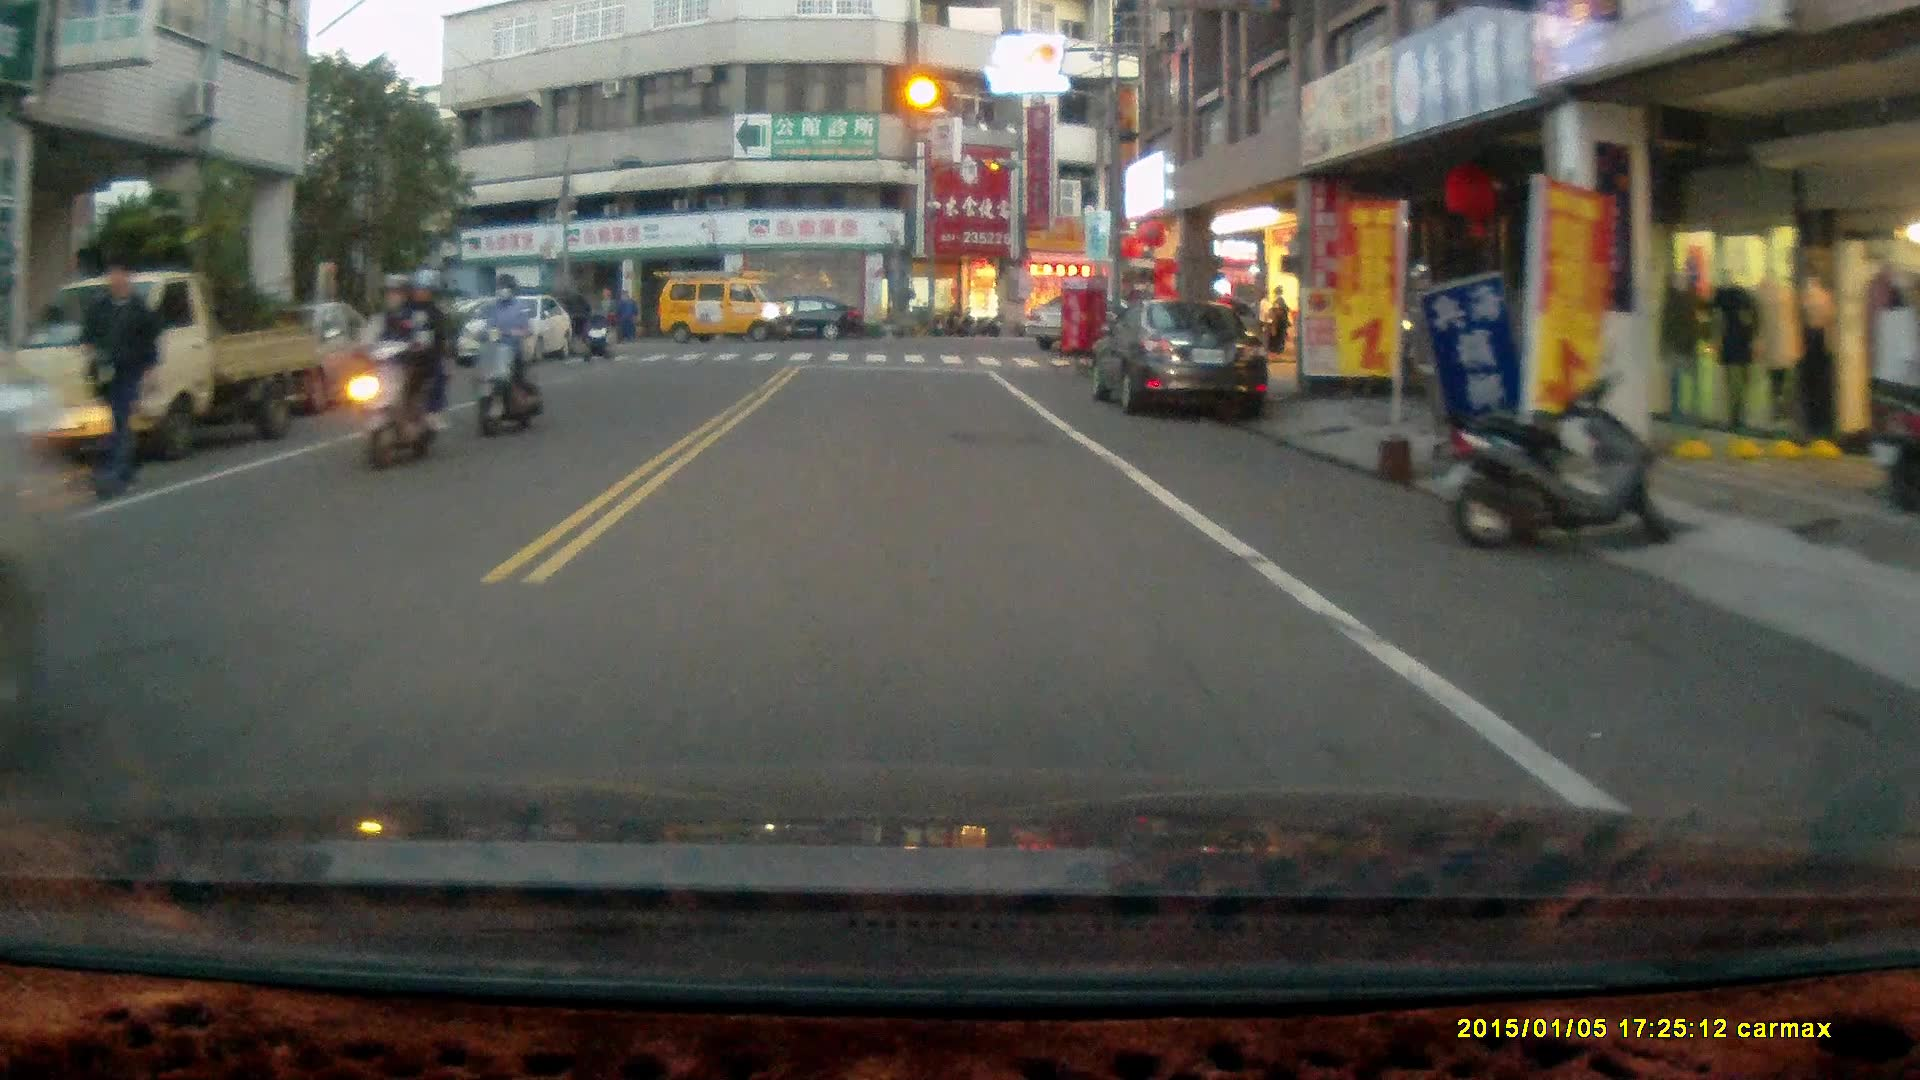pedestrian: (74, 254, 159, 499), (1265, 282, 1288, 359)
rider: (350, 263, 451, 471), (471, 271, 542, 437), (578, 307, 616, 363)
vehicle: (1, 270, 329, 465), (1082, 289, 1279, 434), (658, 267, 792, 341), (451, 292, 575, 366), (752, 290, 864, 340)
